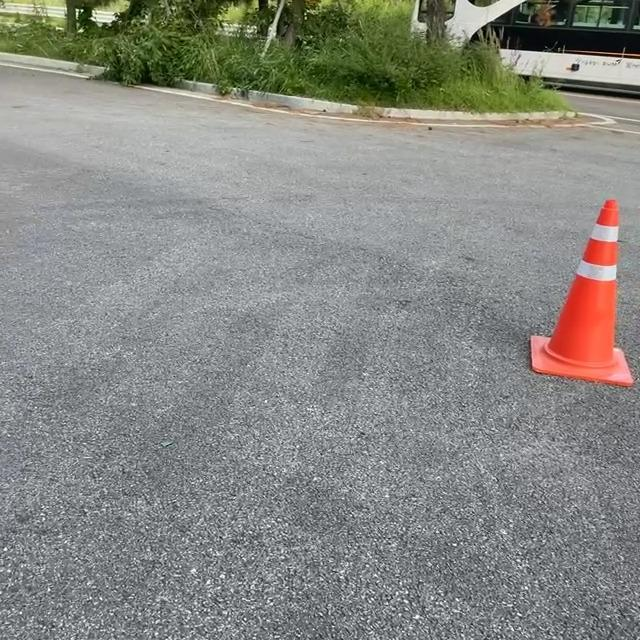fallen_object: (500, 197, 640, 357)
